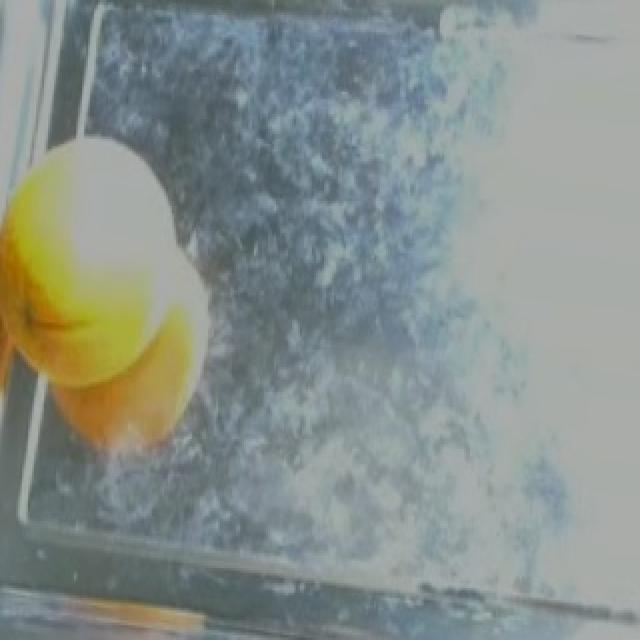Fruit: (0, 102, 224, 481)
